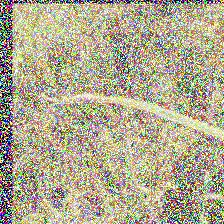Leaf_Blast: (34, 78, 182, 126)
